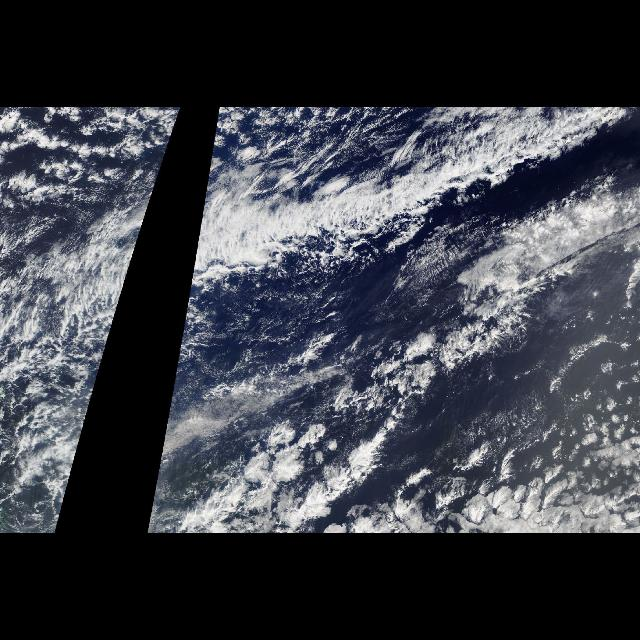Fish: (183, 108, 639, 312), (22, 204, 150, 312)
Flower: (190, 403, 638, 533), (0, 108, 182, 202), (205, 108, 367, 202)
